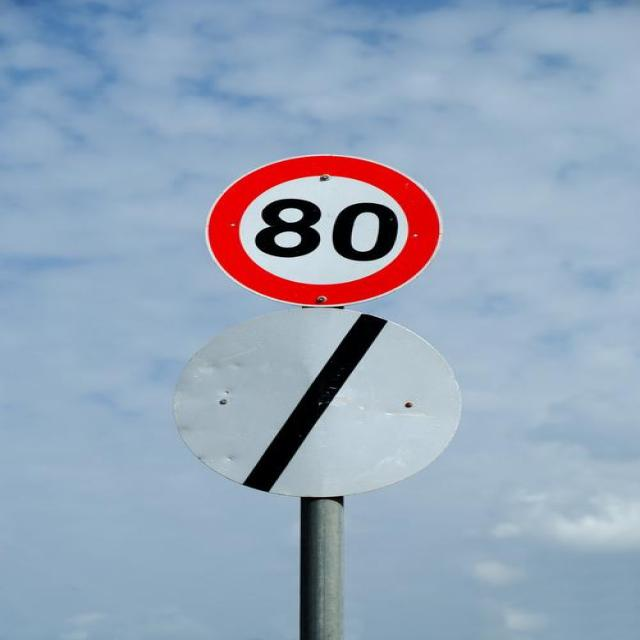speed limit 80: (203, 153, 443, 309)
